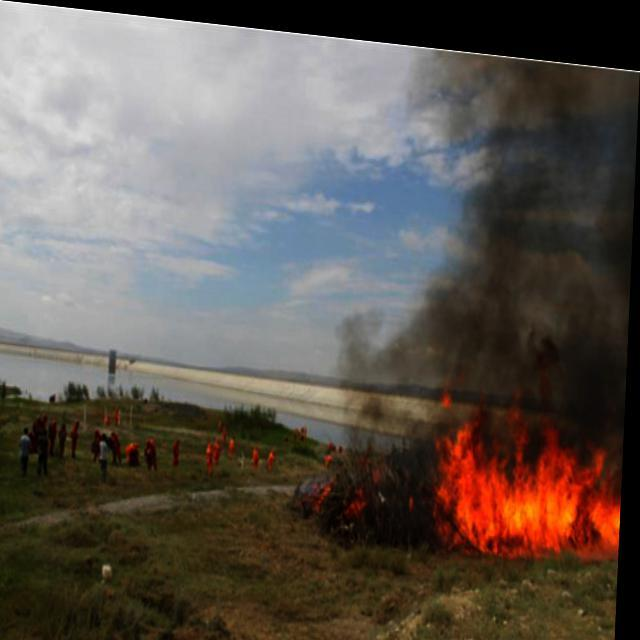Fire: (430, 374, 628, 554), (348, 460, 384, 512), (315, 471, 338, 510)
